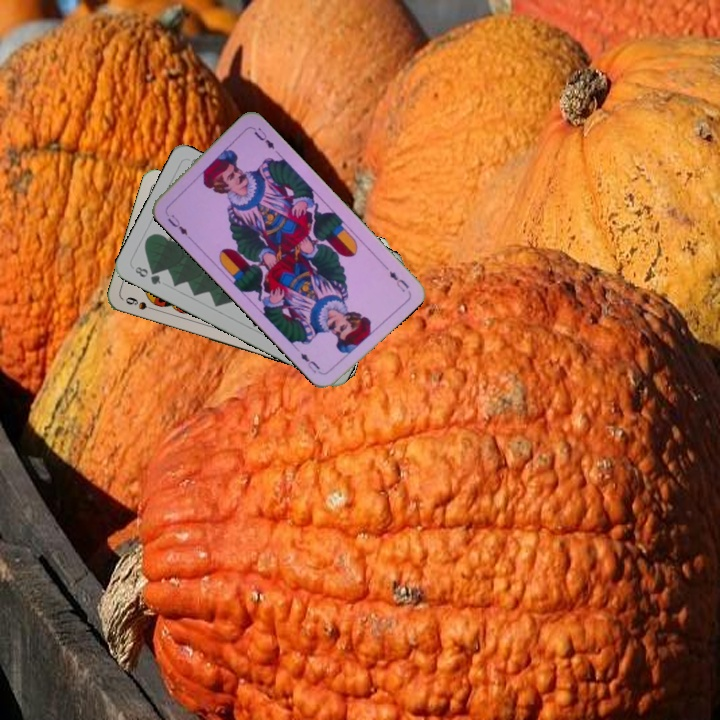EU: (163, 210, 190, 238), (385, 267, 411, 295)
G8: (131, 262, 163, 287)
S9: (121, 293, 160, 313)
